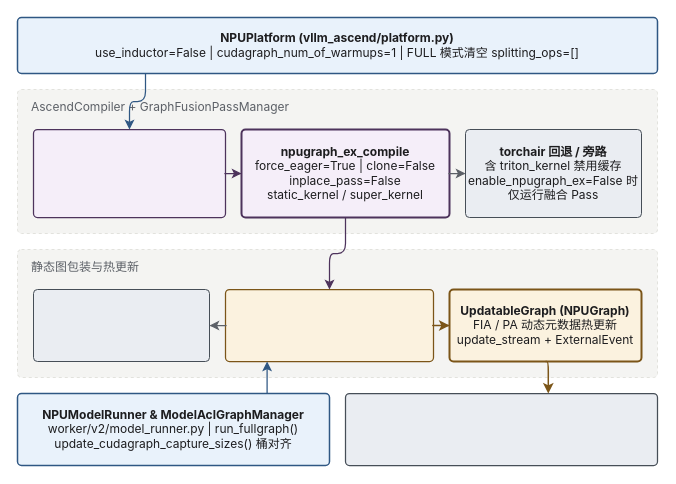
This 676x484 diagram has some shape labels left out. Each missing label, with the centre of its shape:
ACLGraphWrapper BreakableACLGraphWrapper weak_ref_workspaces | 207008: the point at 329,325
CANN ACLNN / RTS 硬件重放 整图任务队列一次提交设备侧执行 单步仅轻量 update_stream 刷新元数据: the point at 501,429
GraphFusionPassManager AddRMSNormQuantFusion QKNormRopeFusion MulsAdd / MatmulRS: the point at 129,173
GraphParams 路径 AscendMLAImpl 仍沿用 FIA / PA 调即报 NotImpl: the point at 121,325
